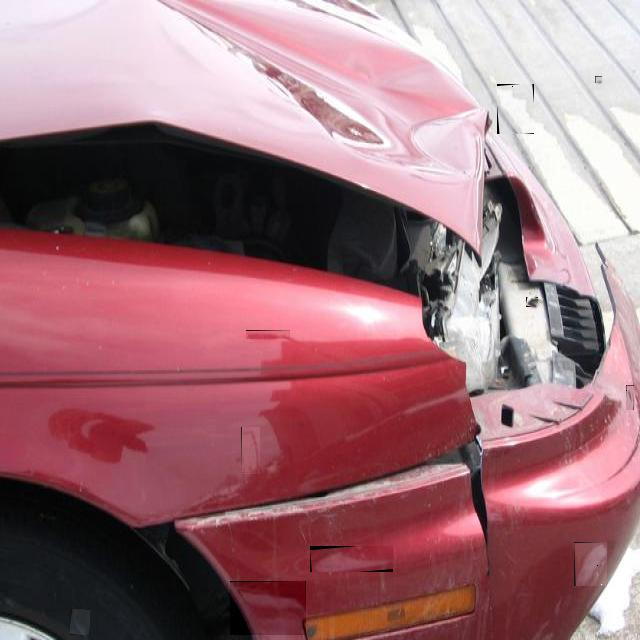Dent: (230, 581, 306, 635), (310, 546, 393, 572), (497, 84, 534, 134), (574, 542, 607, 586), (241, 428, 260, 476), (70, 609, 90, 635), (246, 330, 290, 339), (626, 385, 634, 410), (526, 297, 538, 307), (595, 76, 602, 83)
